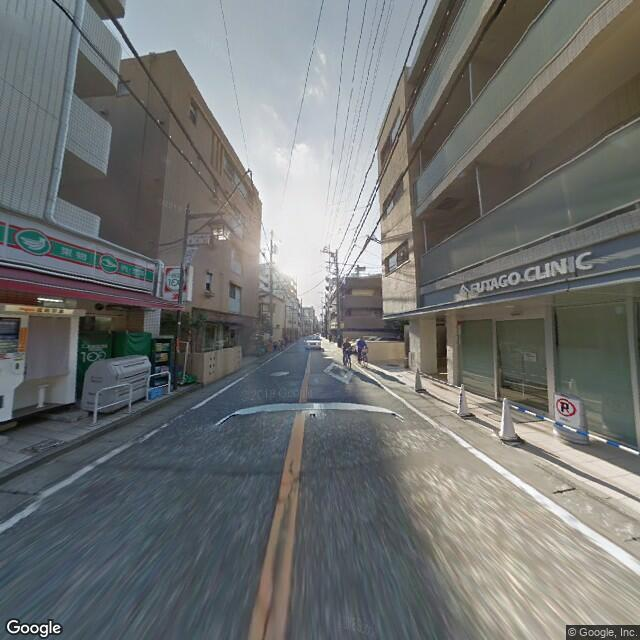lawson: (1, 215, 159, 302), (163, 262, 186, 300)
